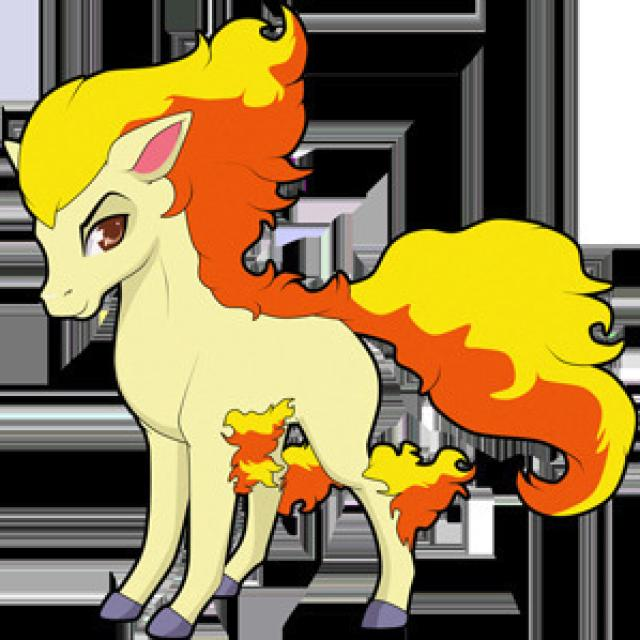Ponyta: (36, 43, 472, 634)
